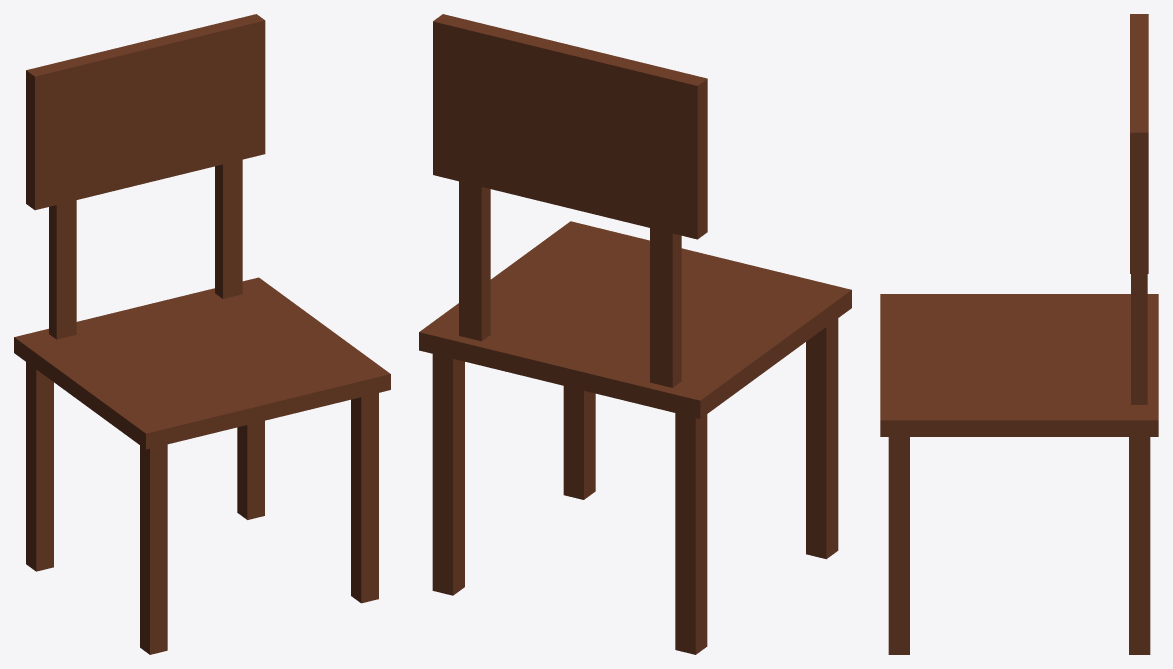
The model's file is Chair.obj.
The picture shows the model from 3 angles, left to right: view 1: azimuth 30°, elevation 25°; view 2: azimuth 150°, elevation 25°; view 3: azimuth 270°, elevation 25°; orthographic projection. The views are drawn at different scales.
Parts seen in each view (by area): view 1: chair; view 2: chair; view 3: chair.
Boxes of the visible parts, x1,y1,x2,y2 form: chair: [14, 14, 390, 654]; chair: [419, 14, 851, 654]; chair: [880, 14, 1158, 654].
Bounding box in the file's own units: 2.14 × 4.14 × 2.
